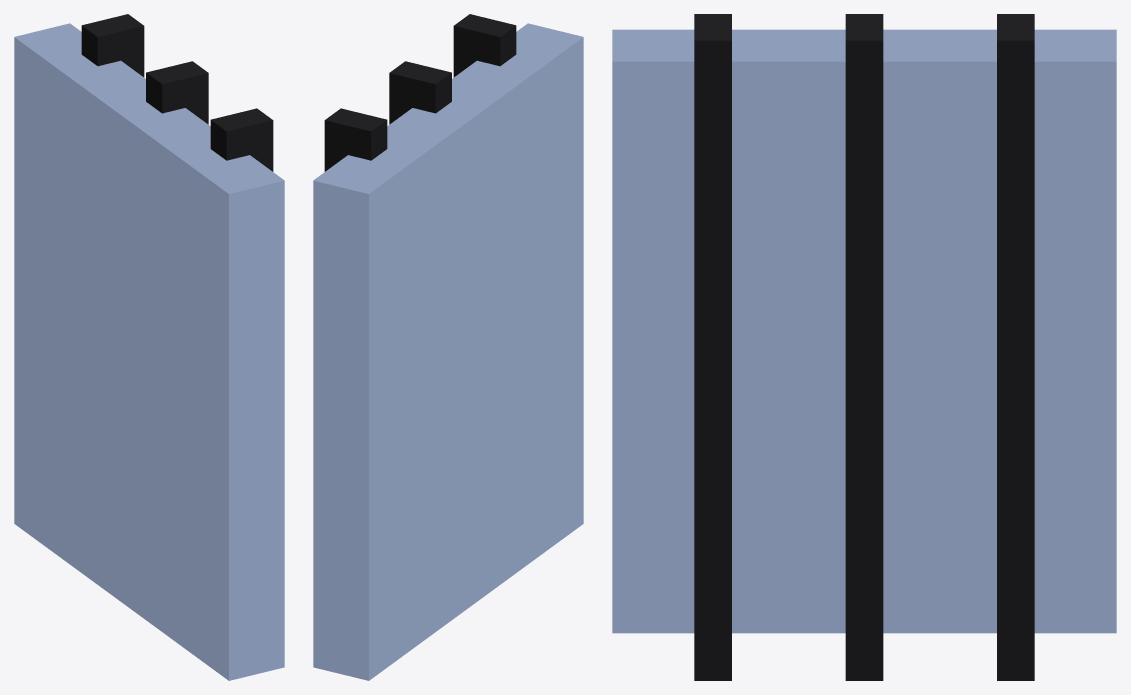
Rendered from ato2_janela_gradeada.glb.
3 views of the same model, side by side, from view 1: azimuth 30°, elevation 25°; view 2: azimuth 150°, elevation 25°; view 3: azimuth 270°, elevation 25° (orthographic). The views are drawn at different scales.
Visible parts, largest first — view 1: Malha_0; view 2: Malha_0; view 3: Malha_0.
Part boxes in pixels (x1,y1,x2,y2): Malha_0: (14,14,284,680); Malha_0: (313,14,583,680); Malha_0: (612,14,1116,680).
Bounding box in the file's own units: 0.085 × 0.56 × 0.4.
